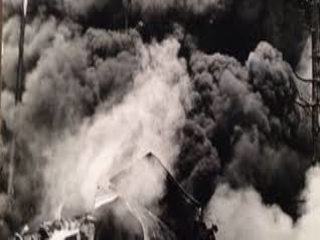smoke: (202, 36, 303, 171), (119, 28, 196, 187), (9, 18, 117, 130)
